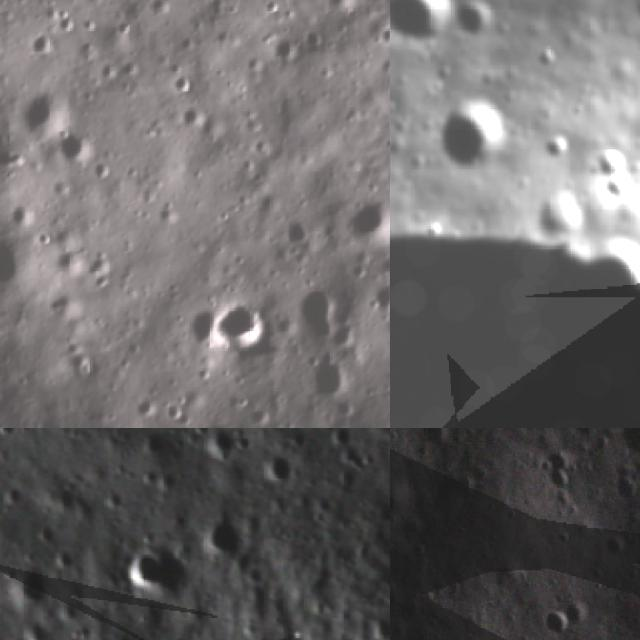crater: (390, 132, 640, 428), (420, 94, 519, 184), (390, 0, 456, 62), (124, 541, 188, 604), (210, 296, 272, 358), (294, 348, 356, 404), (18, 88, 76, 144), (290, 278, 340, 342), (445, 0, 503, 54), (342, 192, 390, 252), (6, 566, 55, 617), (200, 511, 247, 563), (584, 143, 634, 184), (56, 127, 100, 171), (596, 168, 640, 212), (196, 428, 244, 467), (260, 451, 300, 489), (606, 428, 640, 467), (540, 600, 573, 640), (536, 137, 576, 168), (530, 45, 562, 80), (365, 275, 390, 316), (236, 562, 269, 592), (183, 413, 247, 428), (51, 8, 83, 37), (25, 30, 54, 58), (0, 428, 24, 442)
